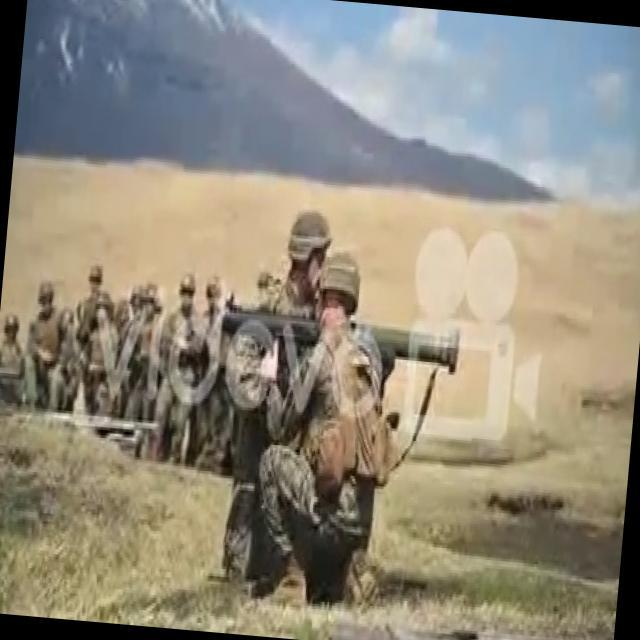rocket: (220, 297, 462, 371)
